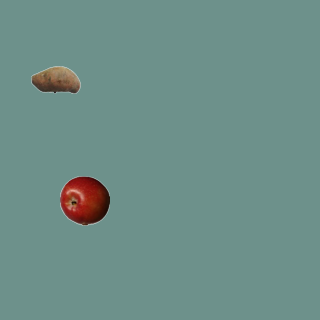Apple Braeburn: (59, 175, 109, 225)
Potato Sweet: (30, 54, 80, 104)
